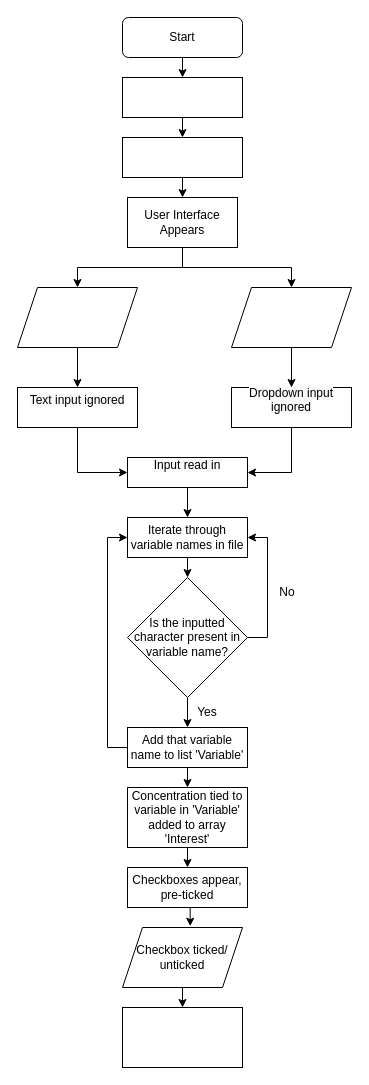
Some shapes in this 369 by 1085 pixel diagram are drawn without their labels. The box of each missing label's shape, as (x1, y1, x2, y2) in pixels:
Associated variable added/removed from 'Interest' array: (122, 1006, 242, 1068)
Dropdown option selected: (16, 286, 138, 348)
File is read in: (122, 76, 242, 118)
List of variable names created: (122, 136, 242, 178)
Text Inputted: (230, 286, 352, 348)
